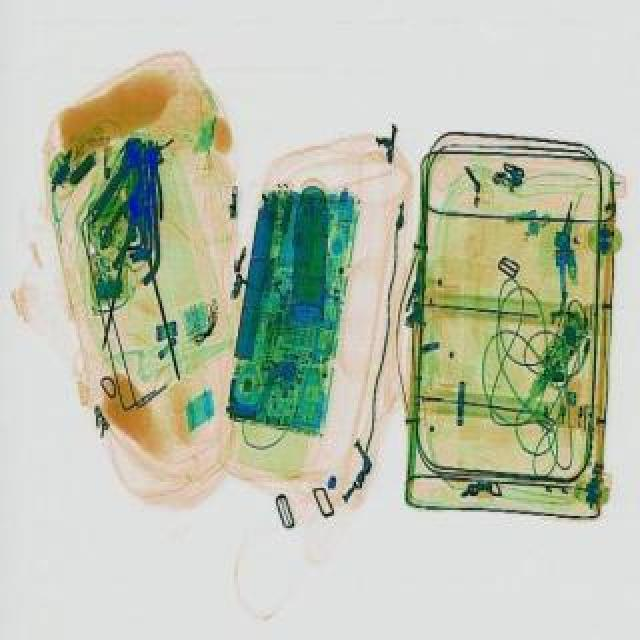scissors: (80, 132, 148, 222)
wrench: (92, 176, 156, 264)
